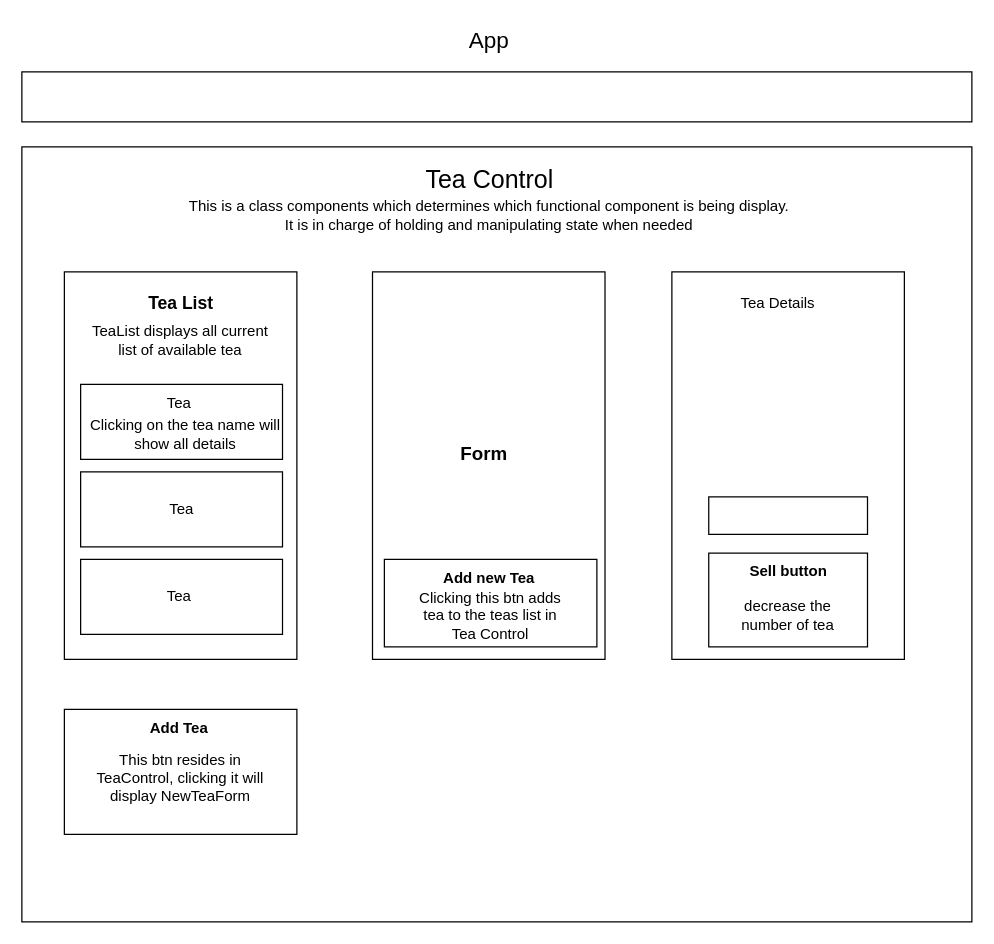
Image size: 994x944. Some labels were removed from this diagram. The shapes that lost their labels are listed below. From the top down, each one's centre as x and y in pixels, then its label:
the point at 496,96: Header
the point at 788,515: Delete button
